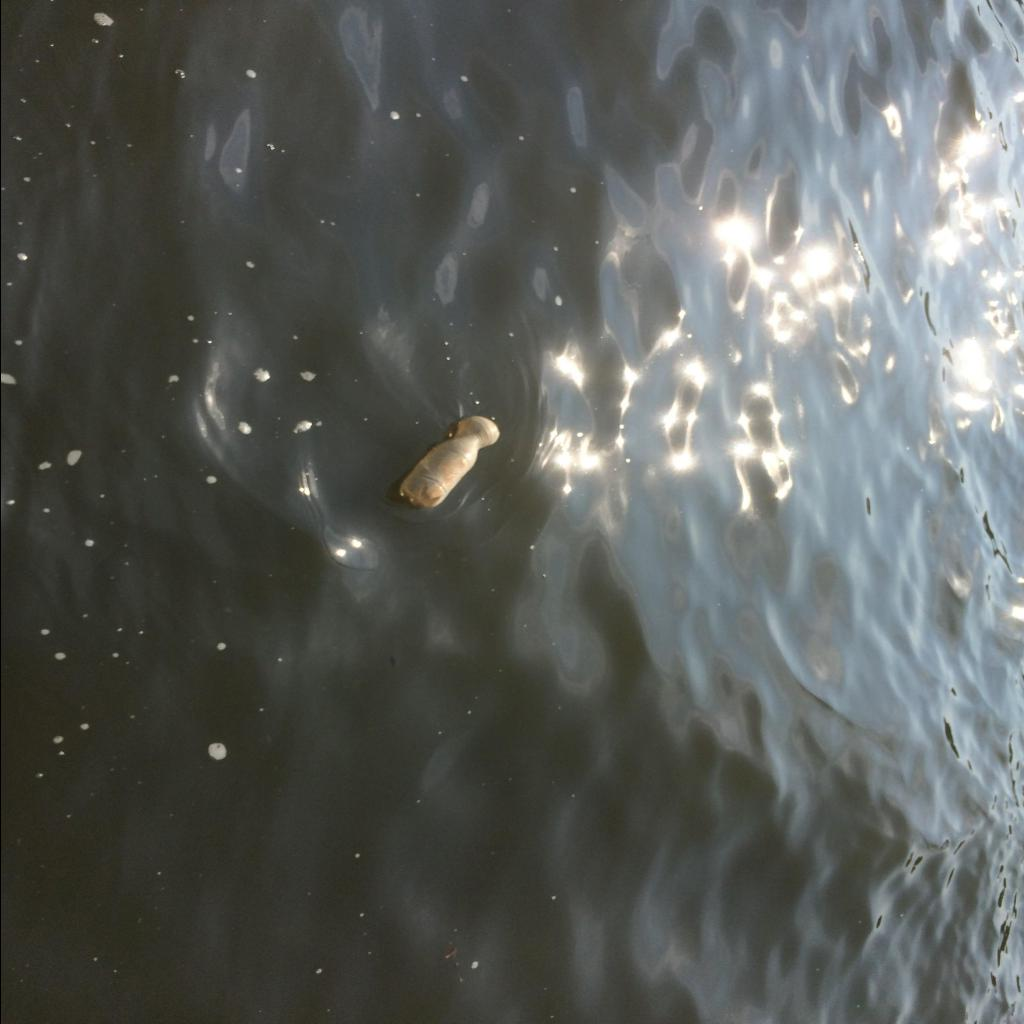Clear plastic bottle: (400, 416, 500, 508)
